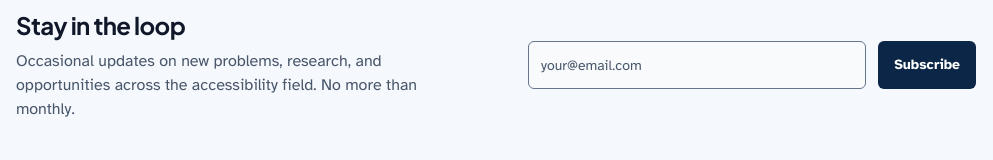
NewsletterSection › explains an invalid address without calling the server
The image size is (993, 160).
Type "not-an-address" into the field named "Email address" at (697,65), box 528,41 -> 866,89
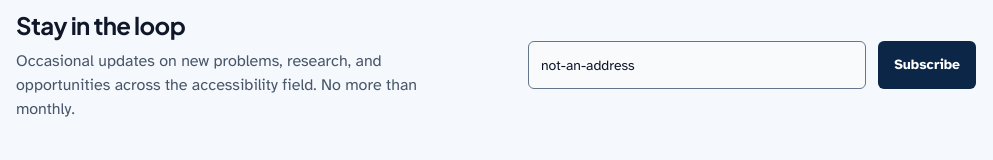
Click the button "Subscribe" at (927,65), box 878,41 -> 976,89
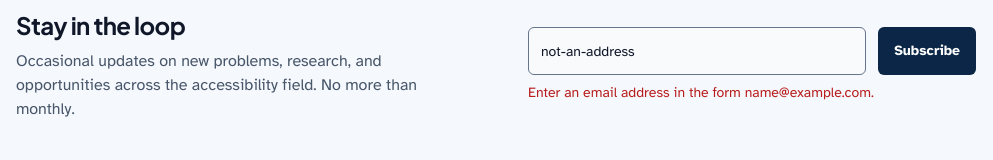
expect the message shows "name@example.com": met, box 528,84 -> 874,101
